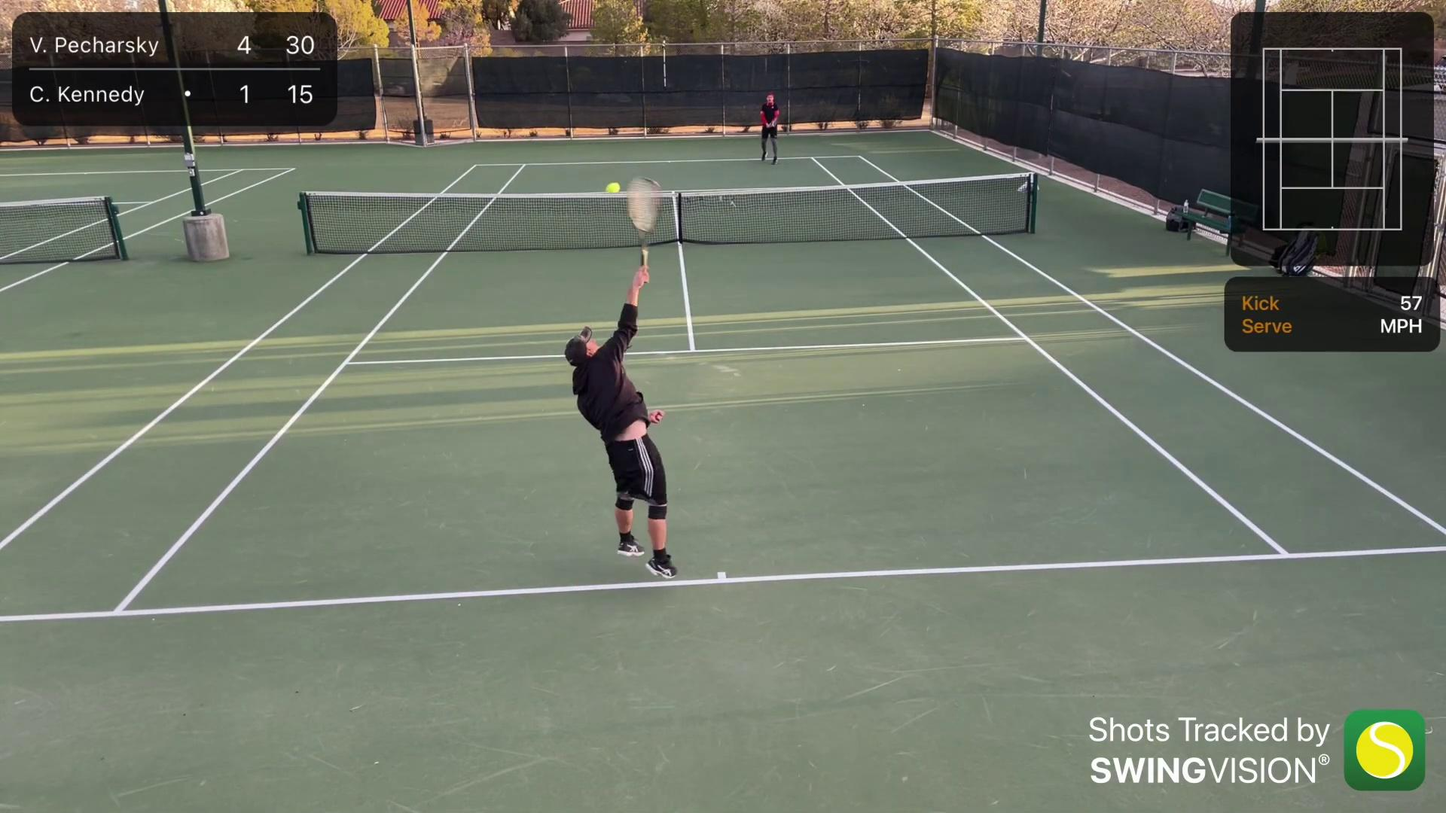ball: (602, 181, 621, 191)
